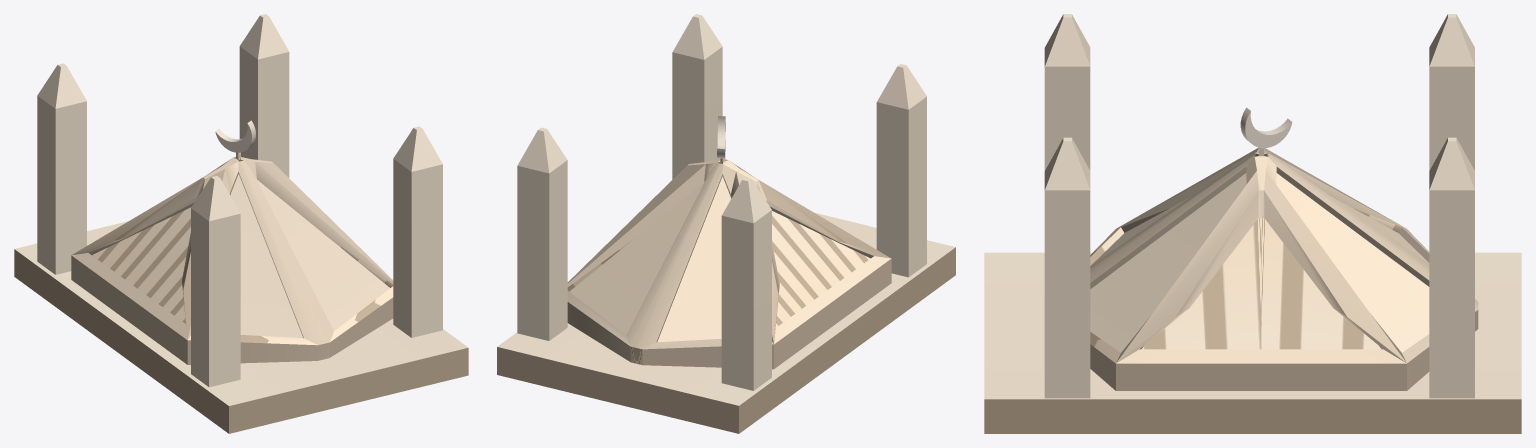
File: faisal mosque 2.fbx
The picture shows the model from 3 angles, left to right: view 1: azimuth 30°, elevation 25°; view 2: azimuth 150°, elevation 25°; view 3: azimuth 270°, elevation 25°; orthographic projection. The views are drawn at different scales.
Visible parts, largest first — view 1: Circle.001; view 2: Circle.001; view 3: Circle.001.
Part boxes in pixels (x1,y1,x2,y2): Circle.001: (14, 14, 468, 433); Circle.001: (497, 14, 955, 433); Circle.001: (984, 14, 1521, 433).
Bounding box in the file's own units: 200 × 181 × 310.
Materials: 1 (1 with a texture image).
